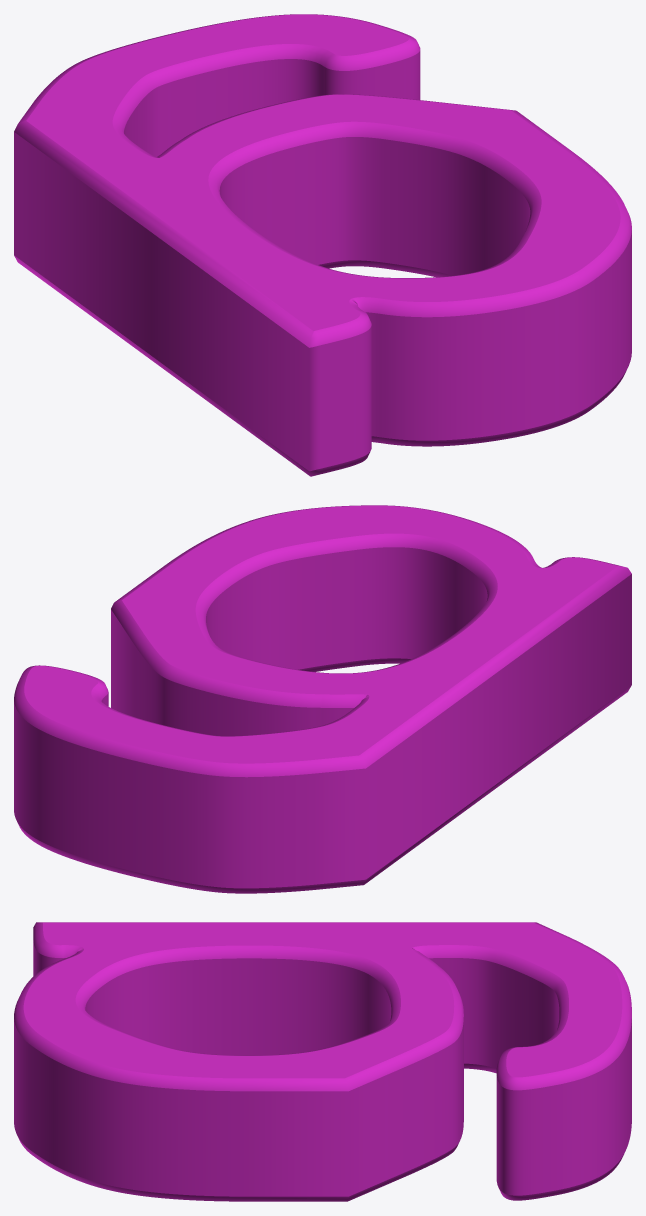
File: Blocky_Letter_g.fbx
3 views of the same model, one above another, from view 1: azimuth 30°, elevation 25°; view 2: azimuth 150°, elevation 25°; view 3: azimuth 270°, elevation 25° (orthographic). The views are drawn at different scales.
Parts seen in each view (by area): view 1: BlockyLetter_g; view 2: BlockyLetter_g; view 3: BlockyLetter_g.
Boxes of the visible parts, bbox=[...] form: BlockyLetter_g: bbox=[14, 14, 631, 476]; BlockyLetter_g: bbox=[14, 505, 631, 893]; BlockyLetter_g: bbox=[14, 922, 631, 1201].
Size of the model in its own units: 0.4007 by 0.14 by 0.638.
